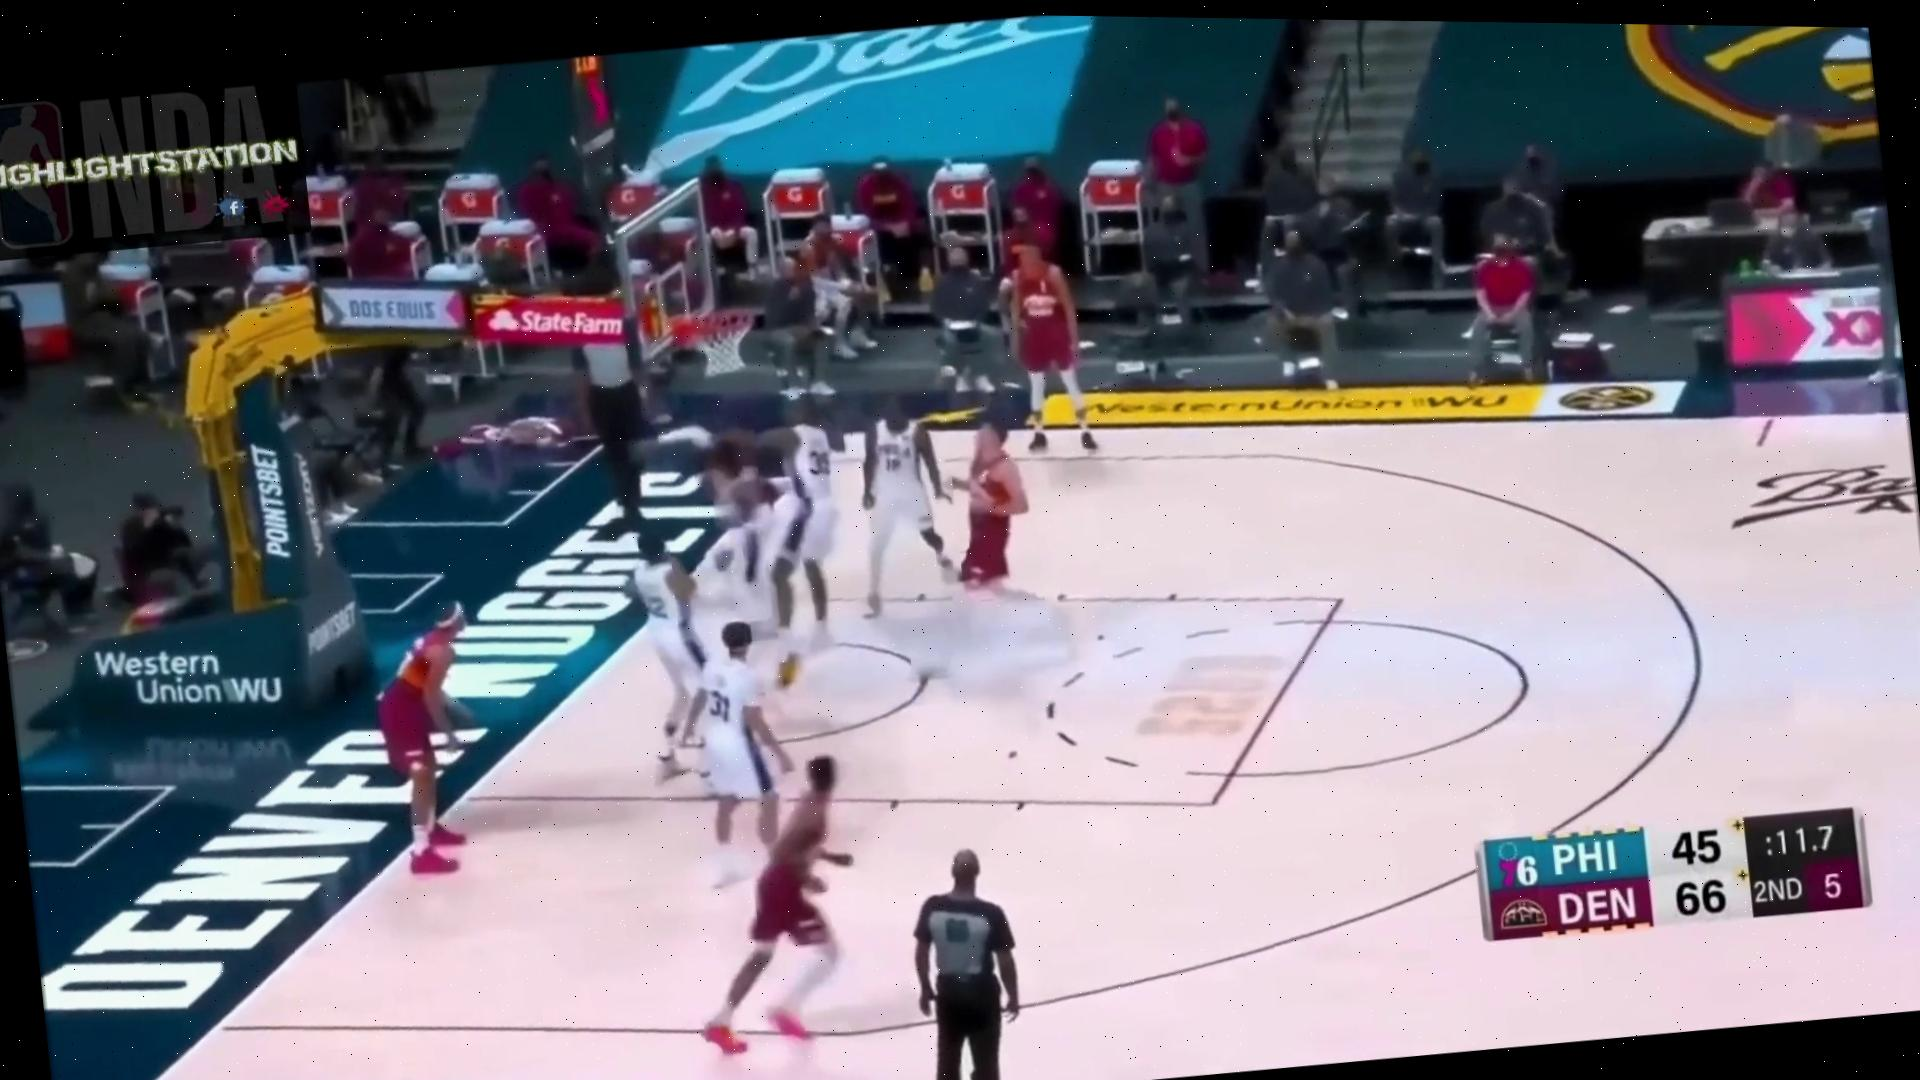no_foul: (828, 372, 1067, 626)
